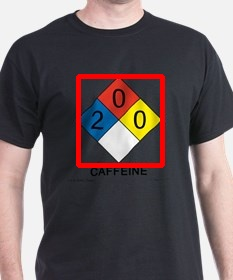nfpa: (78, 76, 162, 165)
